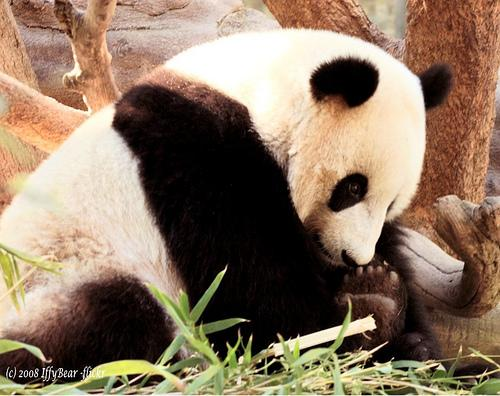panda: (0, 29, 451, 369), (0, 350, 51, 380)
